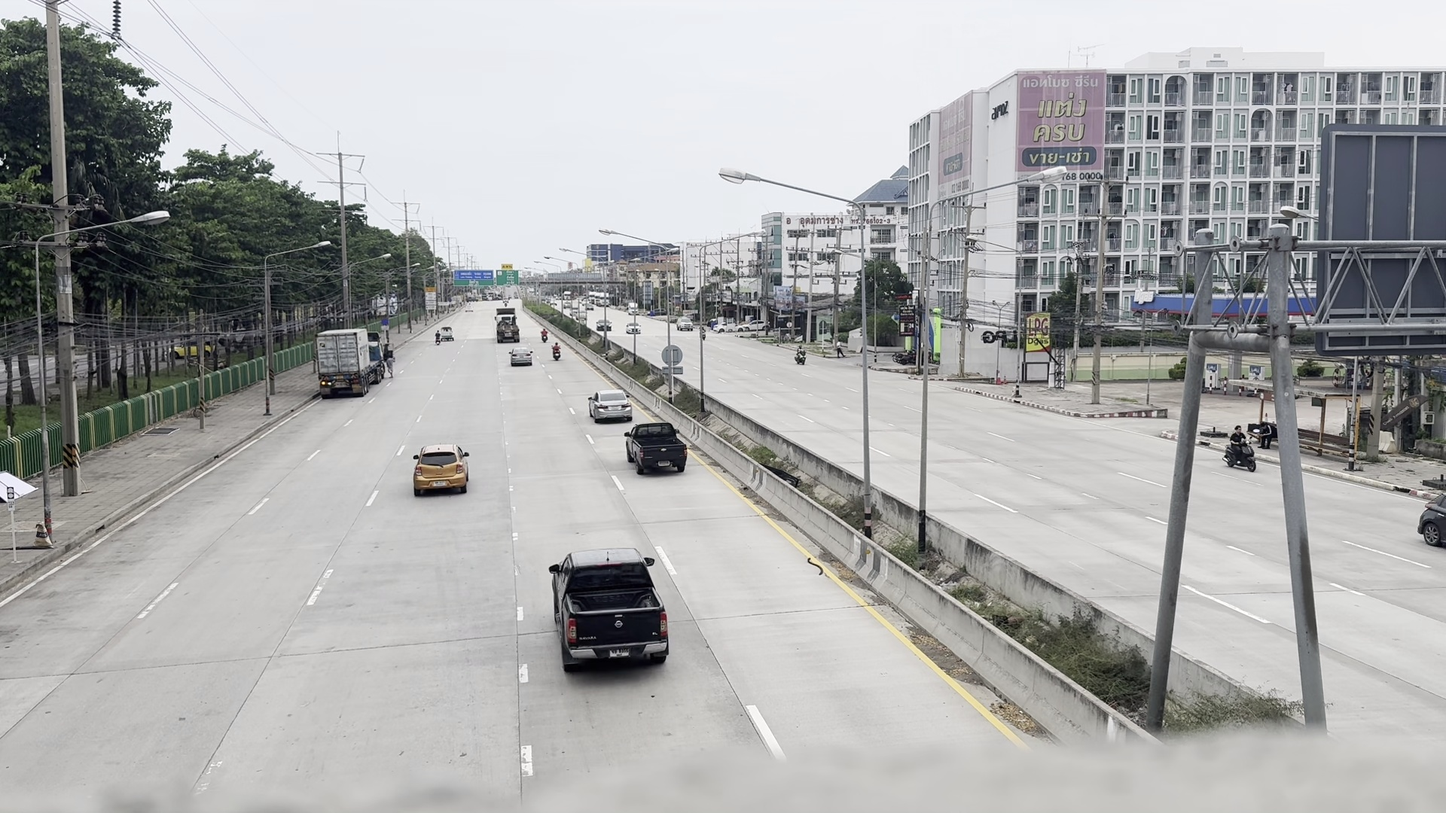bus: (314, 327, 378, 397)
car: (547, 548, 670, 671), (625, 422, 687, 475), (412, 444, 470, 496), (1415, 478, 1445, 546), (588, 392, 635, 424), (1418, 499, 1445, 545), (497, 310, 518, 342), (509, 347, 533, 365)
motorbike: (1223, 424, 1257, 471)
truck: (314, 327, 380, 397)
